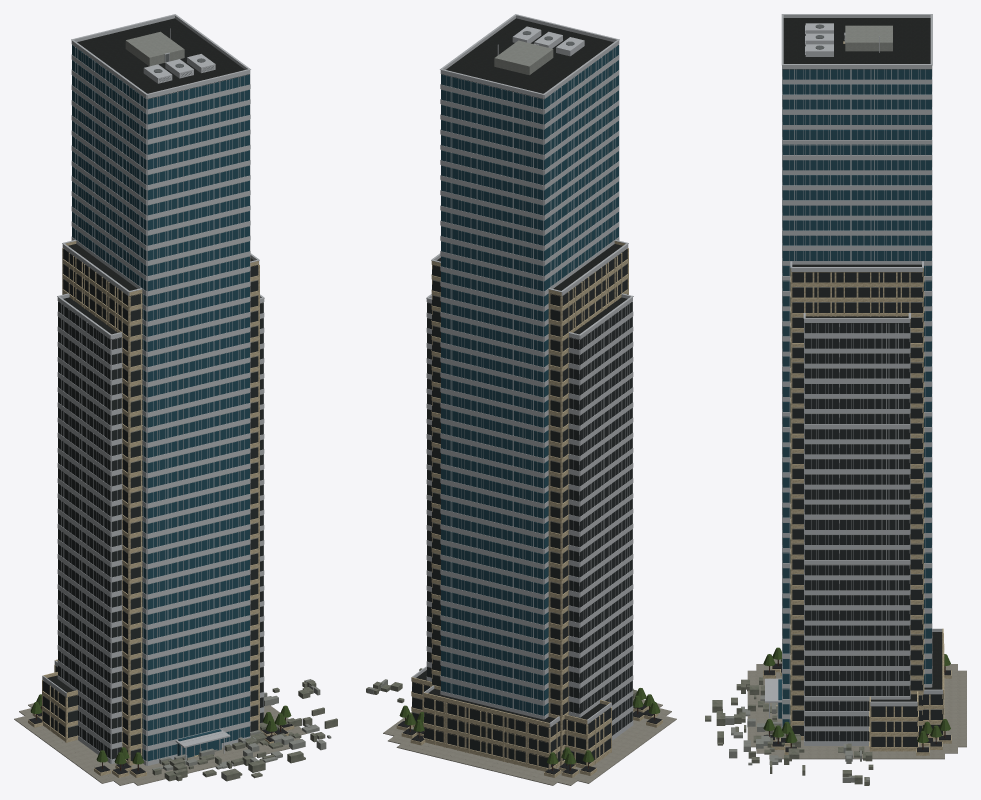
The model's file is highrise_00.glb.
3 views of the same model, side by side, from view 1: azimuth 30°, elevation 25°; view 2: azimuth 150°, elevation 25°; view 3: azimuth 270°, elevation 25° (orthographic).
Visible parts, largest first — view 1: main_tower/roof_plant (×4), main_tower/lod1_band_04 (×2), main_tower/lod1_band_03 (×2), main_tower/lod1_band_10, main_tower/lod1_band_01 (×2), main_tower/lod1_band_08, main_tower/lod1_band_06 (×2), main_tower/lod1_band_09, main_tower/lod1_band_05 (×2), main_tower/lod1_band_02 (×2), main_tower/lod1_band_07 (×2), main_tower/lod1_band_00 (×2) (+50 smaller); view 2: main_tower/roof_plant (×4), main_tower/lod1_band_03 (×2), main_tower/lod1_band_01 (×2), main_tower/lod1_band_04 (×2), main_tower/lod1_band_02 (×2), main_tower/lod1_band_06 (×2), main_tower/lod1_band_10, main_tower/lod1_band_05 (×2), main_tower/lod1_band_09, main_tower/lod1_band_08, main_tower/lod1_band_07 (×2), retail_podium/lod1_band_00 (×2) (+49 smaller); view 3: main_tower/roof_plant (×5), main_tower/lod1_band_08, main_tower/lod1_band_06 (×3), main_tower/lod1_band_04 (×2), main_tower/lod1_band_10, main_tower/lod1_band_03 (×2), ground/paving (×4), main_tower/lod1_band_05 (×3), main_tower/lod1_band_09, main_tower/lod1_band_07 (×2), main_tower/lod1_band_01 (×3), main_tower/lod1_band_00 (+54 smaller).
Part boxes in pixels (x1,y1,x2,y2): main_tower/roof_plant (×4): [58, 15, 264, 339]; main_tower/lod1_band_04 (×2): [57, 423, 264, 523]; main_tower/lod1_band_03 (×2): [57, 483, 264, 584]; main_tower/lod1_band_10: [71, 45, 250, 159]; main_tower/lod1_band_01 (×2): [57, 605, 264, 705]; main_tower/lod1_band_08: [71, 166, 250, 280]; main_tower/lod1_band_06 (×2): [57, 302, 264, 402]; main_tower/lod1_band_09: [71, 105, 250, 220]; main_tower/lod1_band_05 (×2): [57, 362, 264, 462]; main_tower/lod1_band_02 (×2): [57, 544, 264, 644]; main_tower/lod1_band_07 (×2): [62, 227, 259, 341]; main_tower/lod1_band_00 (×2): [58, 665, 264, 765]; main_tower/roof_plant (×4): [427, 15, 632, 339]; main_tower/lod1_band_03 (×2): [426, 483, 633, 584]; main_tower/lod1_band_01 (×2): [426, 605, 633, 705]; main_tower/lod1_band_04 (×2): [426, 423, 633, 523]; main_tower/lod1_band_02 (×2): [426, 544, 633, 644]; main_tower/lod1_band_06 (×2): [426, 301, 633, 402]; main_tower/lod1_band_10: [440, 45, 619, 159]; main_tower/lod1_band_05 (×2): [426, 362, 633, 462]; main_tower/lod1_band_09: [440, 105, 619, 220]; main_tower/lod1_band_08: [440, 166, 619, 280]; main_tower/lod1_band_07 (×2): [431, 227, 628, 341]; retail_podium/lod1_band_00 (×2): [411, 682, 611, 769]; main_tower/roof_plant (×5): [782, 15, 932, 323]; main_tower/lod1_band_08: [782, 190, 932, 250]; main_tower/lod1_band_06 (×3): [782, 311, 932, 383]; main_tower/lod1_band_04 (×2): [791, 439, 923, 504]; main_tower/lod1_band_10: [782, 69, 932, 129]; main_tower/lod1_band_03 (×2): [791, 499, 923, 565]; ground/paving (×4): [747, 659, 966, 759]; main_tower/lod1_band_05 (×3): [782, 371, 932, 444]; main_tower/lod1_band_09: [782, 129, 932, 190]; main_tower/lod1_band_07 (×2): [782, 250, 932, 317]; main_tower/lod1_band_01 (×3): [782, 613, 932, 685]; main_tower/lod1_band_00: [804, 685, 910, 745].
Size of the model in its own units: 68.38 by 172 by 59.67.
Materials: 15 (15 with a texture image).
